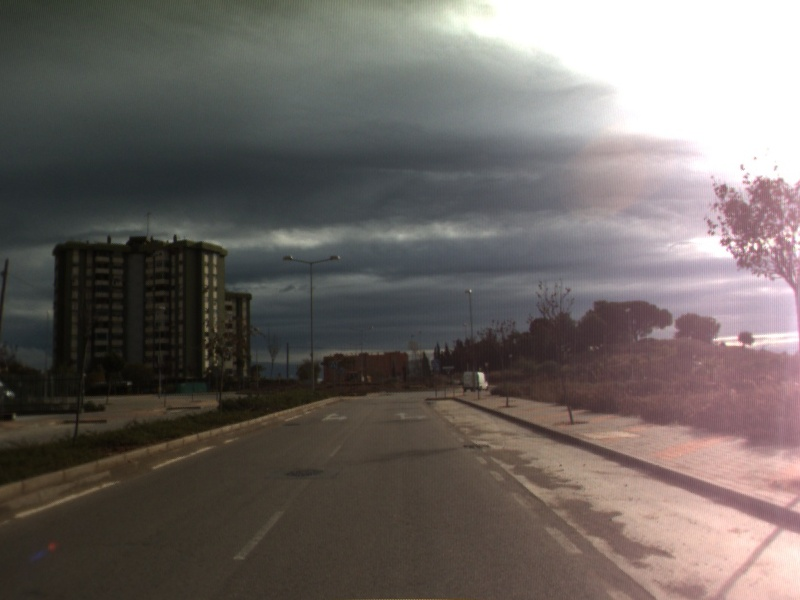STRAIGHT_RIGHT: (393, 410, 429, 422), (319, 411, 349, 423)
